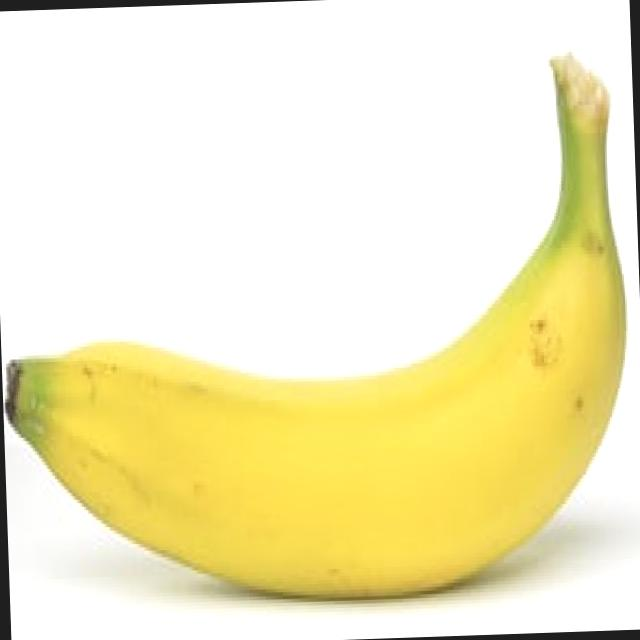banana: (0, 199, 635, 633)
